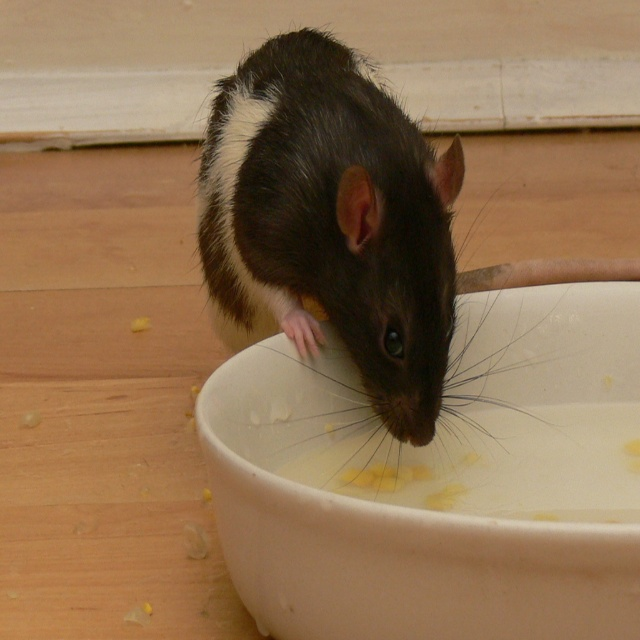Hamster: (181, 16, 587, 505)
